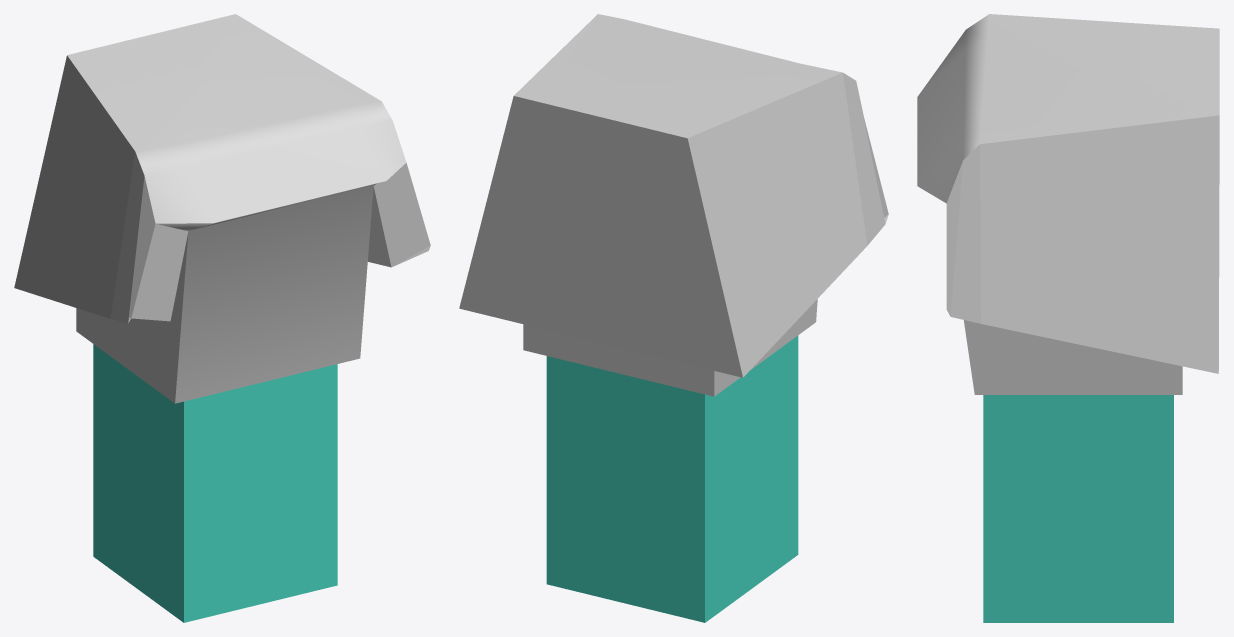
File: char8.fbx
The picture shows the model from 3 angles, left to right: view 1: azimuth 30°, elevation 25°; view 2: azimuth 150°, elevation 25°; view 3: azimuth 270°, elevation 25°; orthographic projection. The views are drawn at different scales.
Parts seen in each view (by area): view 1: pCube69; view 2: pCube69; view 3: pCube69.
Part boxes in pixels (box(x1,y1,x2,y2)): pCube69: box(14, 14, 430, 622); pCube69: box(459, 14, 888, 622); pCube69: box(917, 14, 1219, 622).
Bounding box in the file's own units: 2.26 × 3.51 × 1.88.
